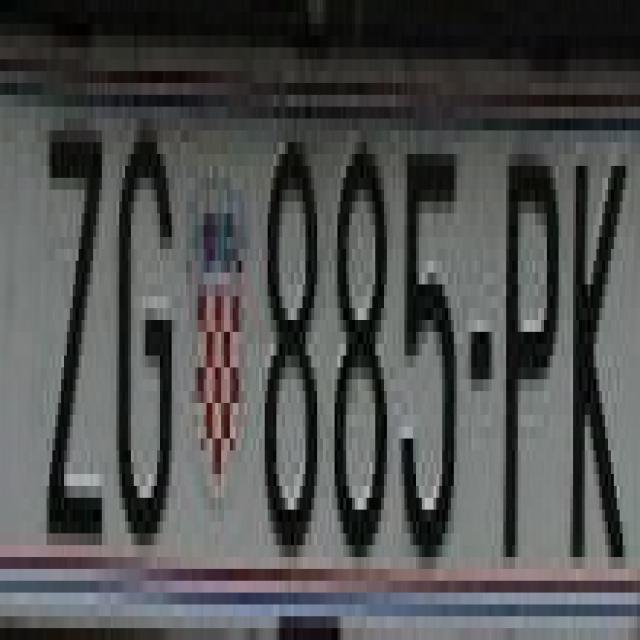5: (401, 118, 457, 558)
8: (259, 118, 317, 558), (332, 118, 387, 558)
G: (116, 94, 174, 534)
K: (570, 130, 628, 546)
P: (500, 142, 556, 569)
Z: (38, 94, 102, 534)
